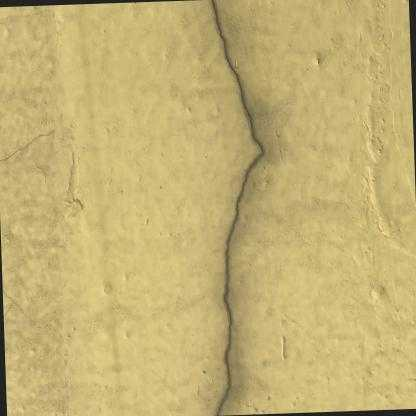crack: (210, 0, 264, 416)
